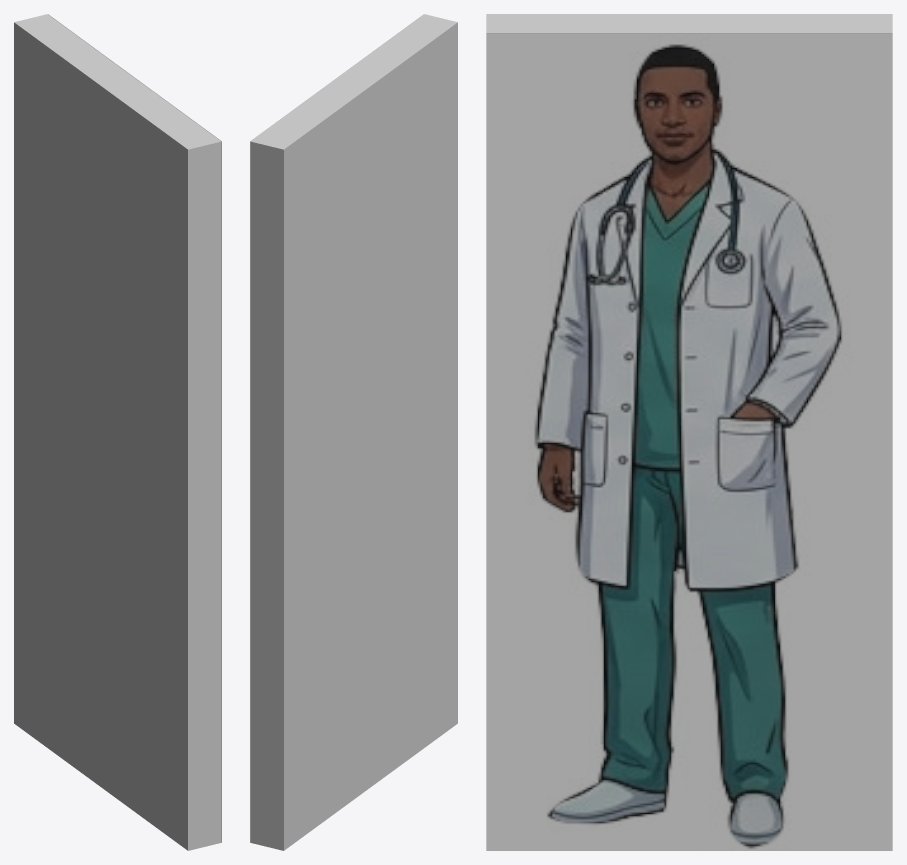
3 renders of one model, left to right at view 1: azimuth 30°, elevation 25°; view 2: azimuth 150°, elevation 25°; view 3: azimuth 270°, elevation 25°, orthographic. The views are drawn at different scales.
Parts seen in each view (by area): view 1: 立方体, 平面; view 2: 立方体, 平面; view 3: 平面, 立方体.
Part boxes in pixels (left/top/right/bottom): 立方体: left=14, top=14, right=221, bottom=850; 平面: left=48, top=14, right=221, bottom=842; 立方体: left=250, top=14, right=457, bottom=850; 平面: left=250, top=14, right=423, bottom=842; 平面: left=486, top=33, right=892, bottom=850; 立方体: left=486, top=14, right=892, bottom=33.
Bounding box in the file's own units: 0.0101 × 0.09 × 0.2.
Materials: 1 (1 with a texture image).
